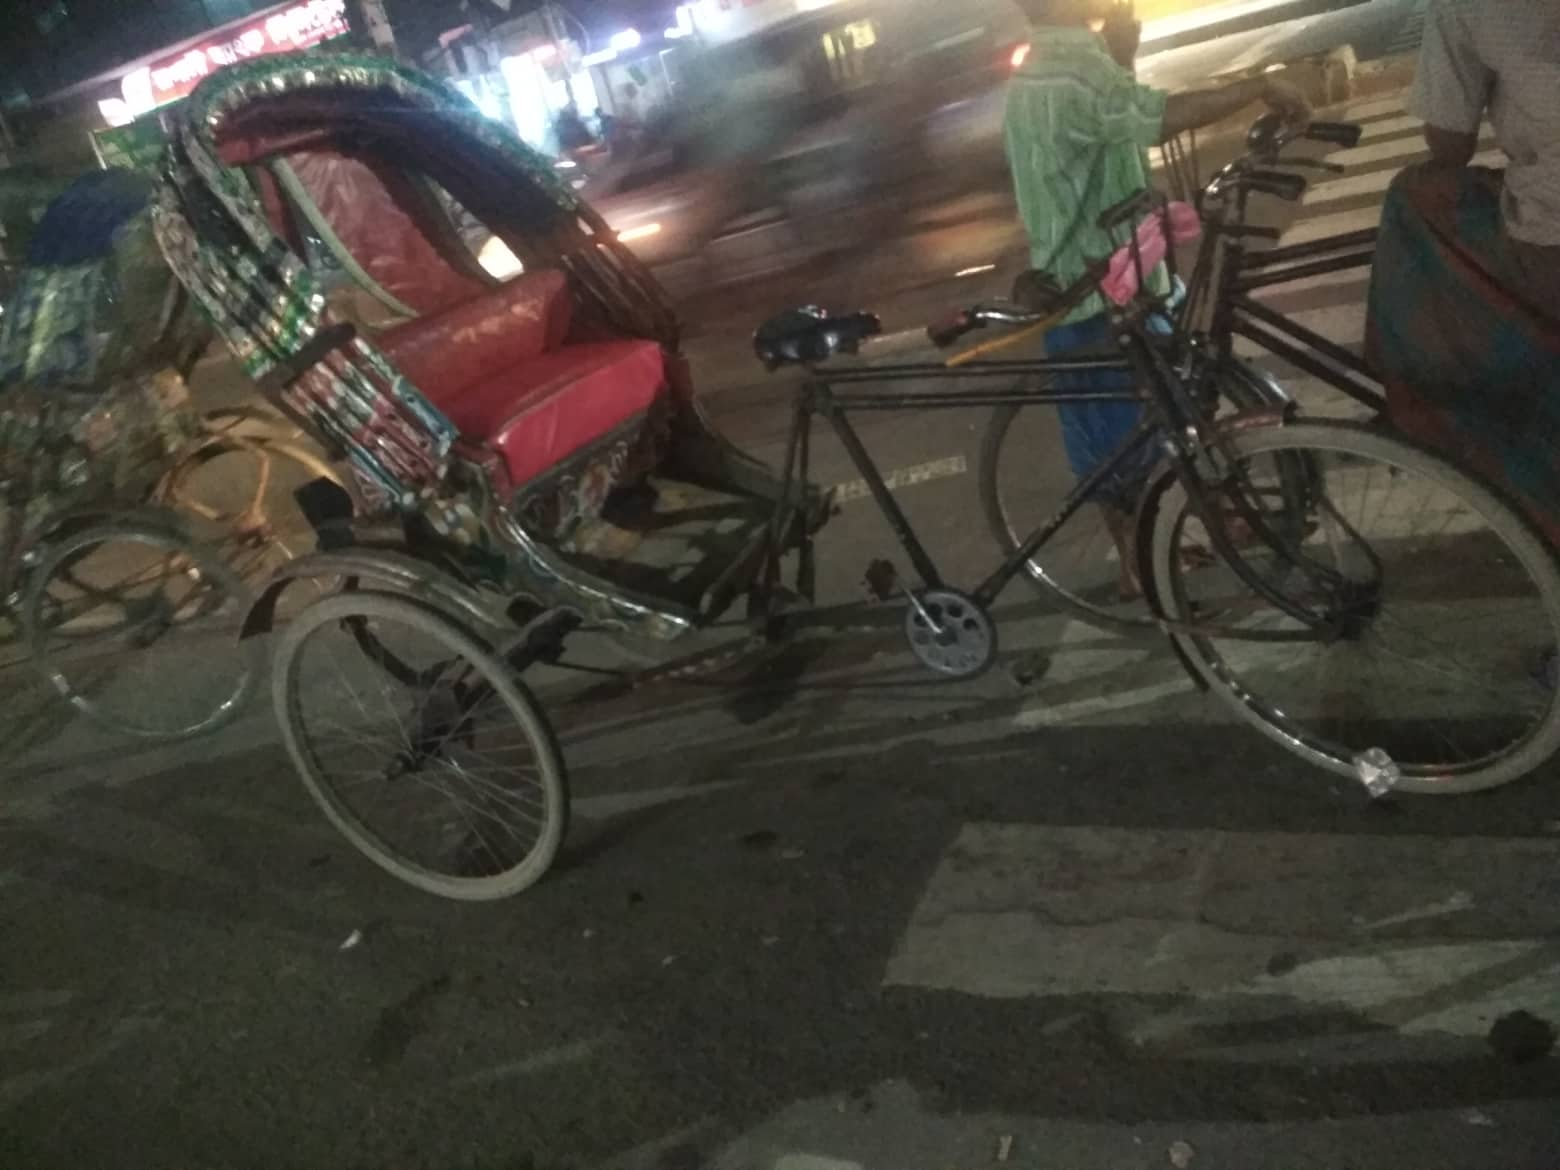Rickshaw: (140, 38, 1558, 906), (10, 156, 353, 775)
